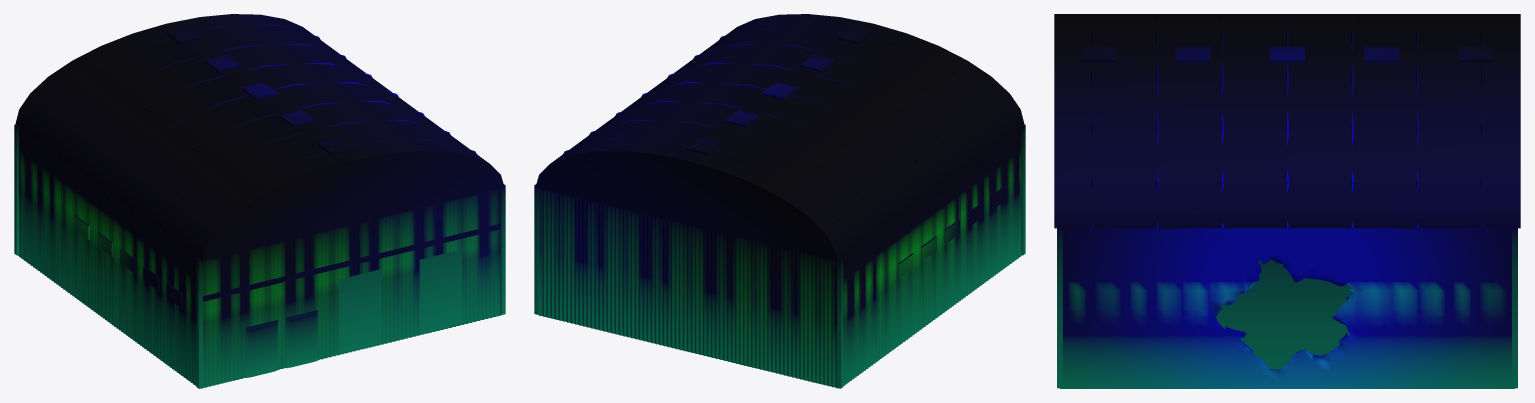
The model's file is industrialcomplex_damaged.glb.
3 views of the same model, side by side, from view 1: azimuth 30°, elevation 25°; view 2: azimuth 150°, elevation 25°; view 3: azimuth 270°, elevation 25° (orthographic). The views are drawn at different scales.
Visible parts, largest first — view 1: lod0; view 2: lod0; view 3: lod0.
Boxes of the visible parts, x1=… form: lod0: x1=14, y1=14, x2=505, y2=388; lod0: x1=534, y1=14, x2=1025, y2=388; lod0: x1=1054, y1=14, x2=1520, y2=388.
Size of what is drawn, in the model's own units: 22.9 by 13.93 by 24.2.
